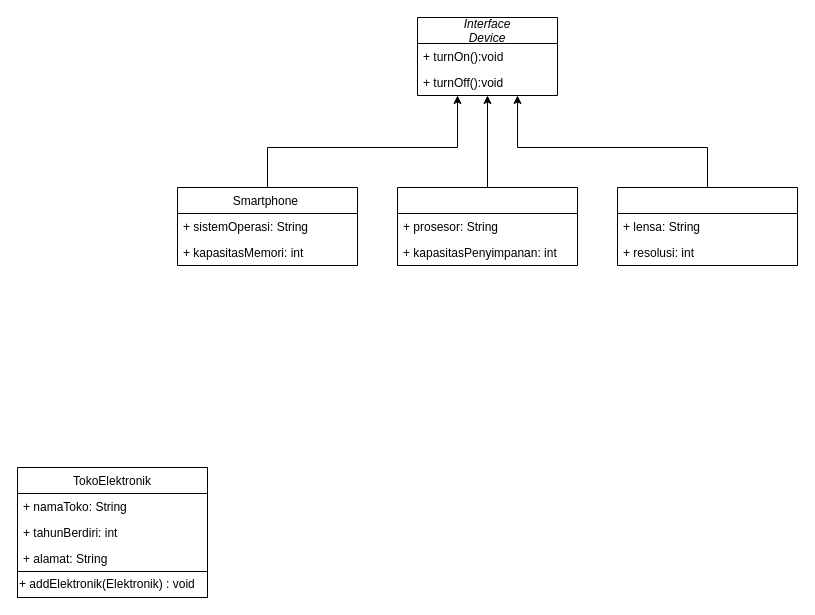
Some shapes in this 815 by 615 pixel diagram are drawn without their labels. Each missing label, with the box of its shape:
Kamera: (616, 186, 798, 266)
Laptop: (396, 186, 578, 266)
